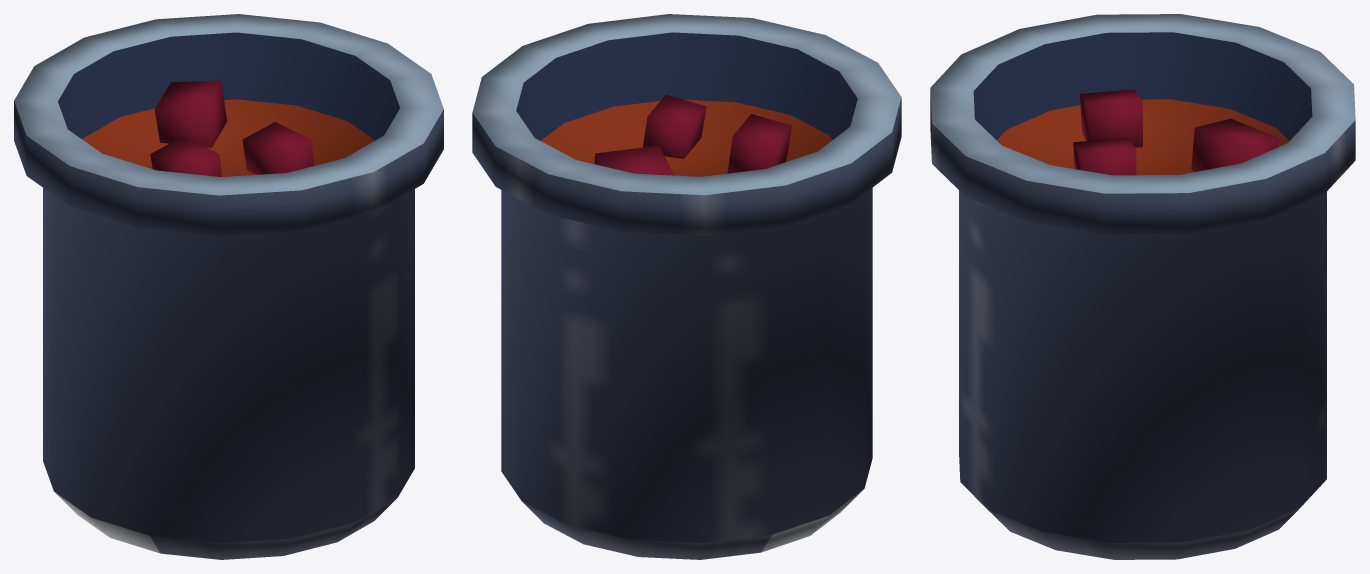
File: Comida.fbx
3 views of the same model, side by side, from view 1: azimuth 30°, elevation 25°; view 2: azimuth 150°, elevation 25°; view 3: azimuth 270°, elevation 25° (orthographic).
Parts seen in each view (by area): view 1: Comida; view 2: Comida; view 3: Comida.
Part boxes in pixels (box(x1,y1,x2,y2)): Comida: box(14, 14, 443, 559); Comida: box(472, 14, 901, 559); Comida: box(930, 14, 1355, 559).
Size of the model in its own units: 35.77 by 35.77 by 36.09.
